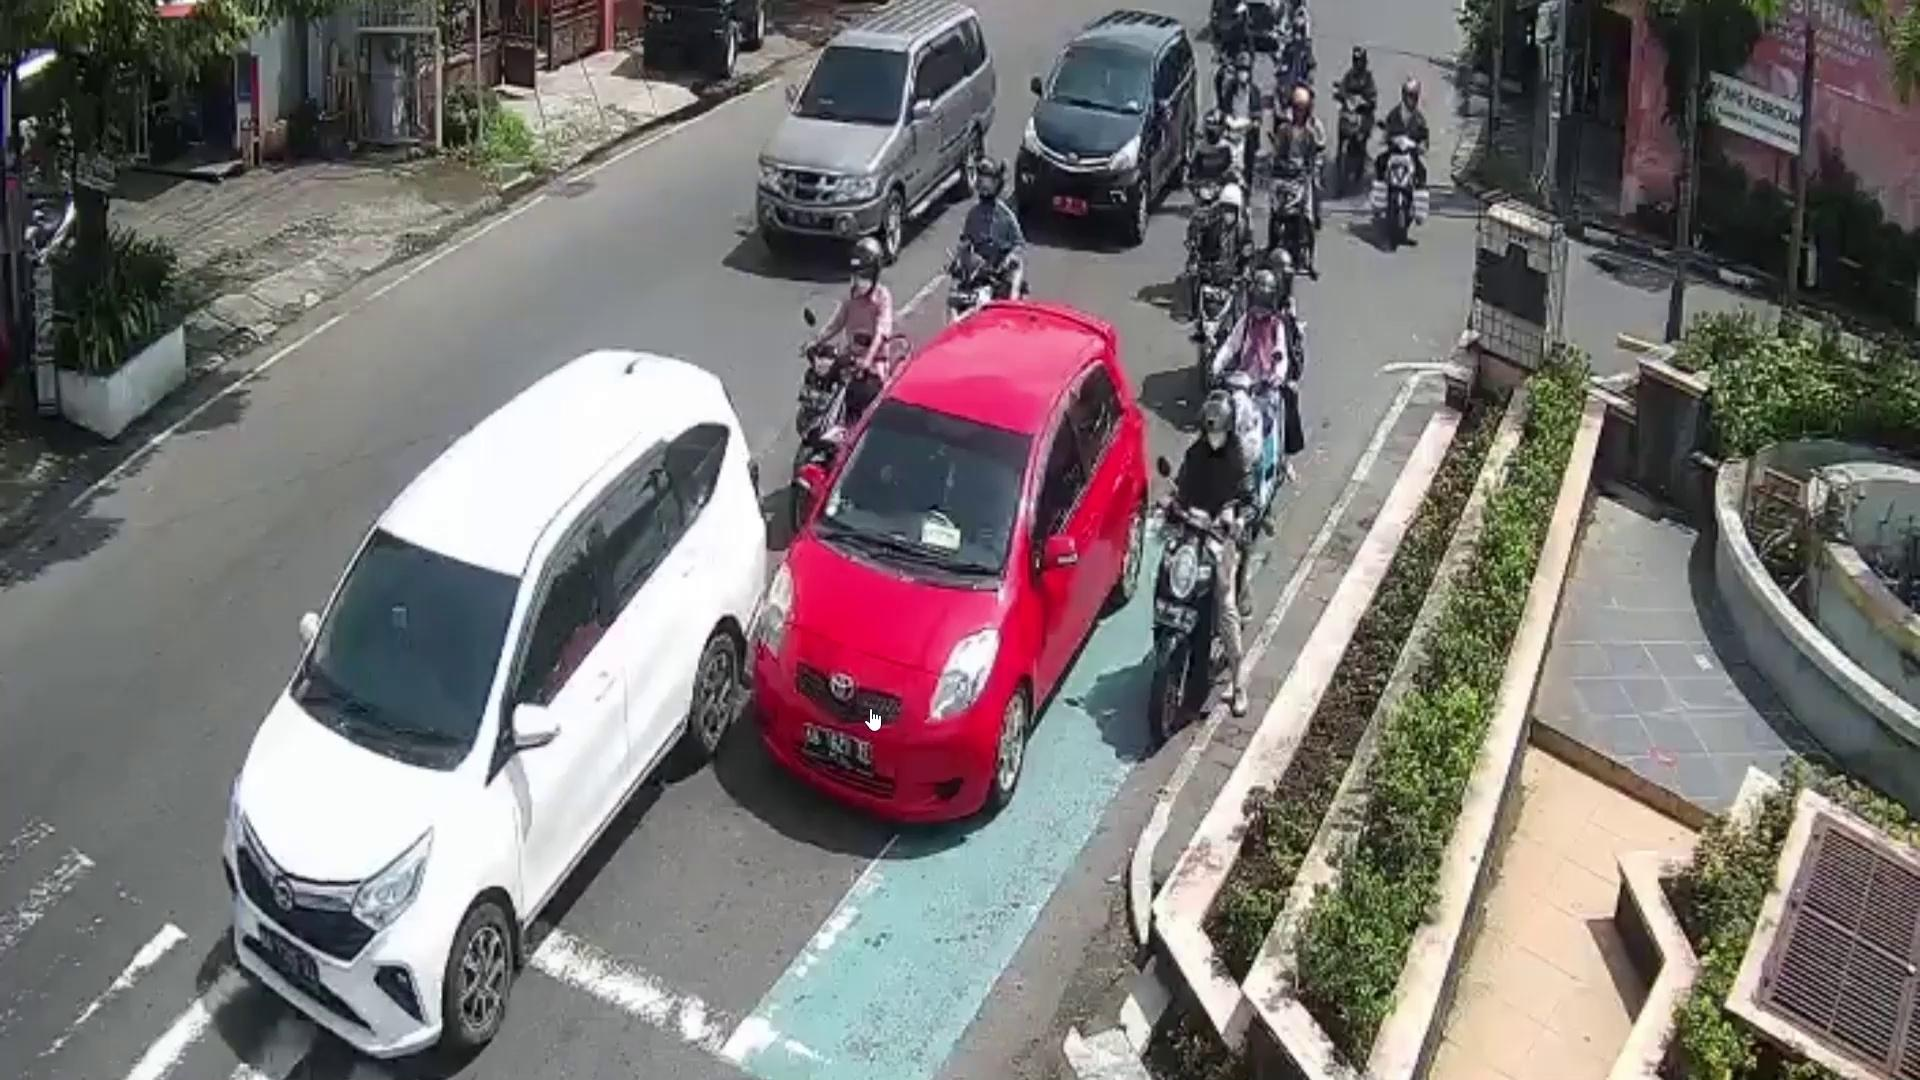car: (225, 349, 765, 1063), (754, 295, 1149, 832), (756, 0, 997, 266), (1017, 7, 1197, 247)
motorbike: (1153, 501, 1217, 738), (1269, 153, 1311, 258), (1387, 132, 1420, 252)
